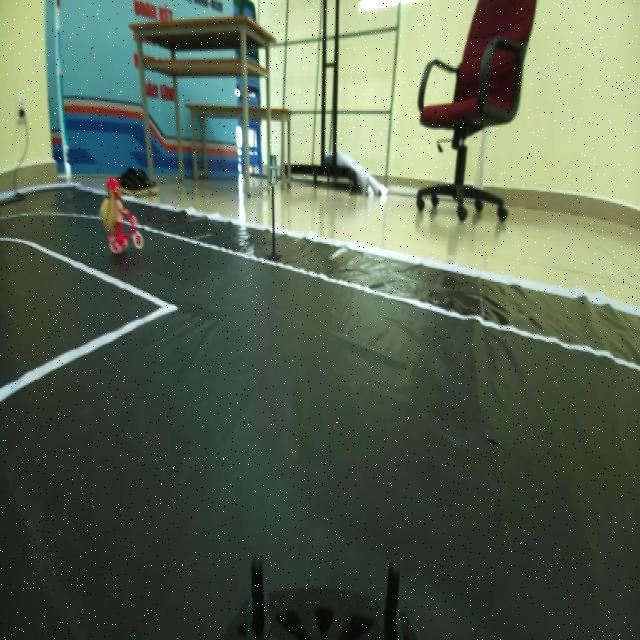pedestrian: (94, 171, 152, 250)
